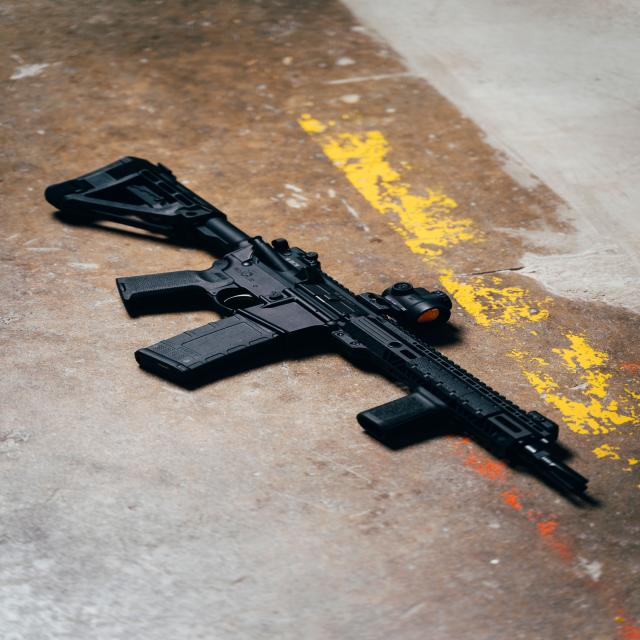Rifle: (44, 156, 600, 511)
